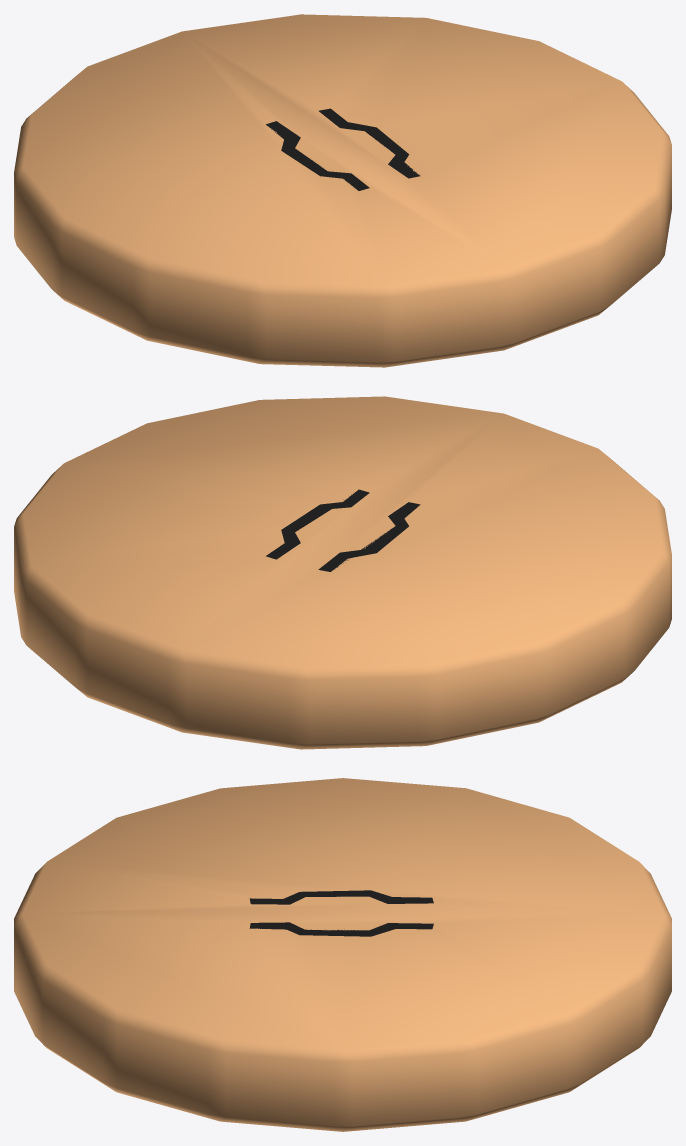
The model's file is Button.fbx.
The picture shows the model from 3 angles, top to bottom: view 1: azimuth 30°, elevation 25°; view 2: azimuth 150°, elevation 25°; view 3: azimuth 270°, elevation 25°; orthographic projection.
Visible parts, largest first — view 1: Button - maromv (MAVG); view 2: Button - maromv (MAVG); view 3: Button - maromv (MAVG).
Part boxes in pixels (bbox=[...]): Button - maromv (MAVG): bbox=[14, 14, 671, 367]; Button - maromv (MAVG): bbox=[14, 396, 671, 749]; Button - maromv (MAVG): bbox=[14, 778, 671, 1131].
Size of the model in its own units: 40.71 by 5.67 by 40.71.
